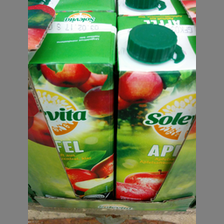juice: (29, 10, 115, 198), (115, 16, 196, 200)
